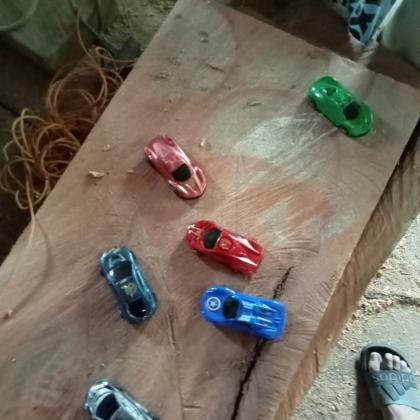Car: (199, 284, 290, 341), (100, 244, 160, 324), (141, 131, 209, 200), (186, 219, 265, 278), (306, 74, 376, 138)
